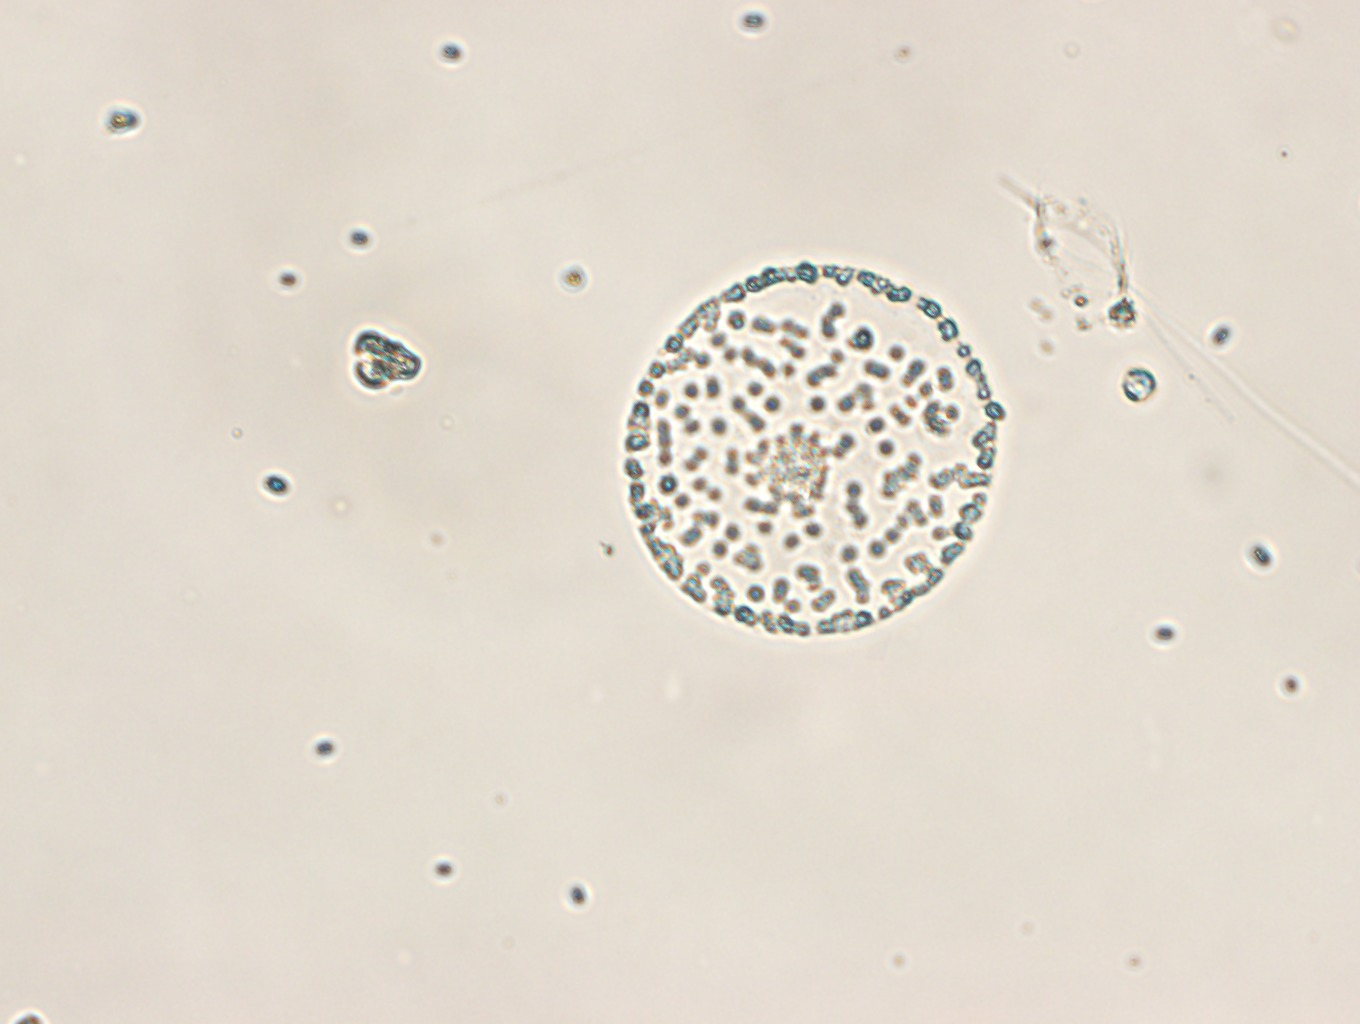coscinodiscus: (622, 259, 1005, 636)
